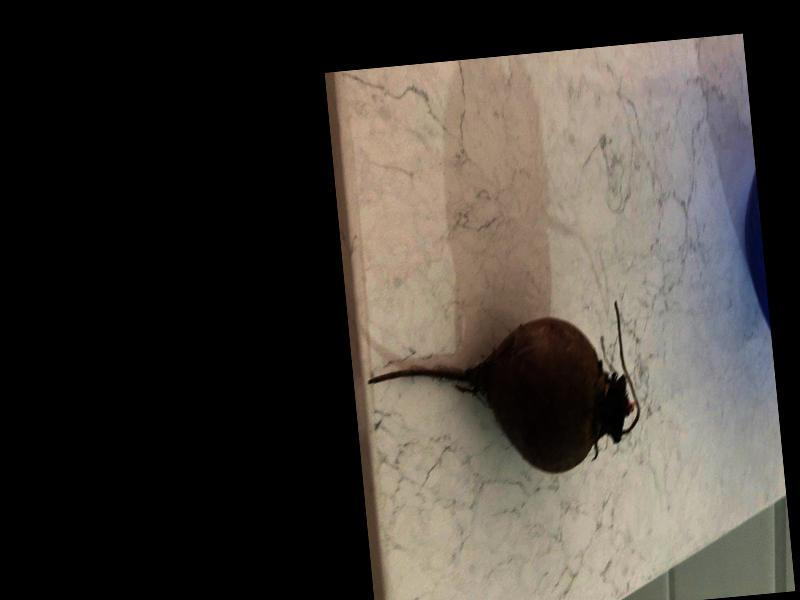Beet: (363, 298, 645, 488)
